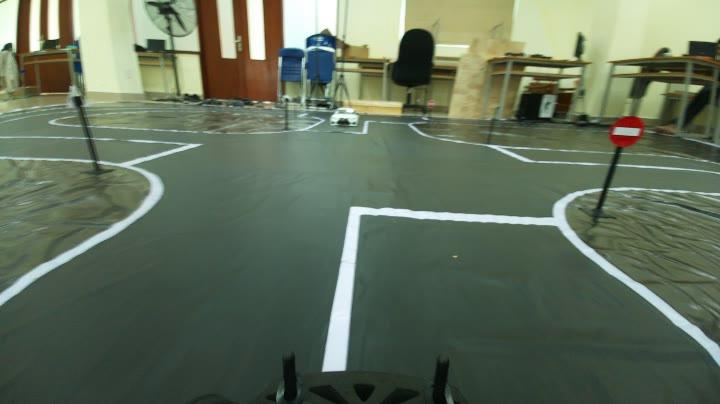car: (325, 99, 363, 130)
no_entry: (608, 113, 648, 153)
